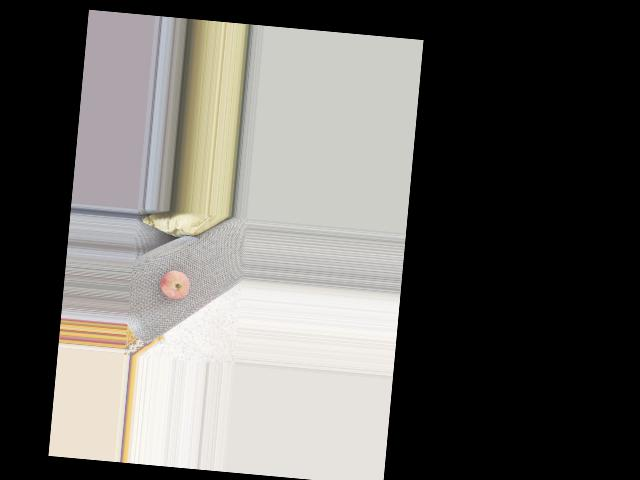apple: (155, 265, 189, 301)
